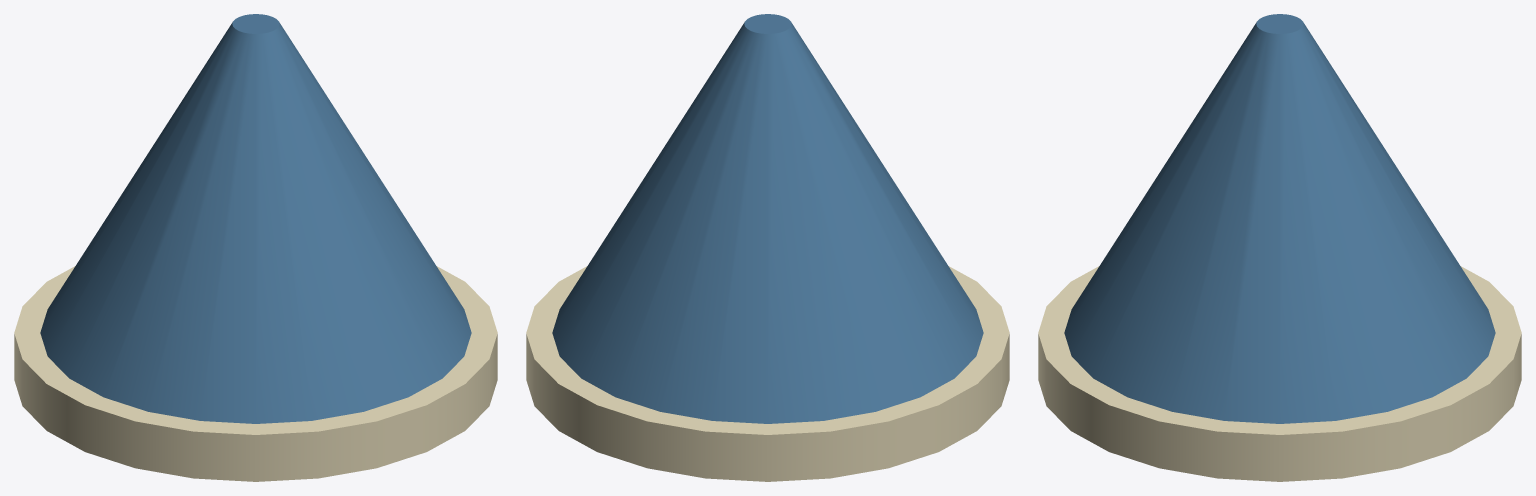
Rendered from towerTopRoof.fbx.
3 renders of one model, left to right at view 1: azimuth 30°, elevation 25°; view 2: azimuth 150°, elevation 25°; view 3: azimuth 270°, elevation 25°, orthographic.
Visible parts, largest first — view 1: towerTopRoof; view 2: towerTopRoof; view 3: towerTopRoof.
Boxes of the visible parts, box(x1,y1,x2,y2) form: towerTopRoof: box(14, 14, 497, 481); towerTopRoof: box(526, 14, 1009, 481); towerTopRoof: box(1038, 14, 1521, 481).
Size of the model in its own units: 11.21 by 9.1 by 11.21.
